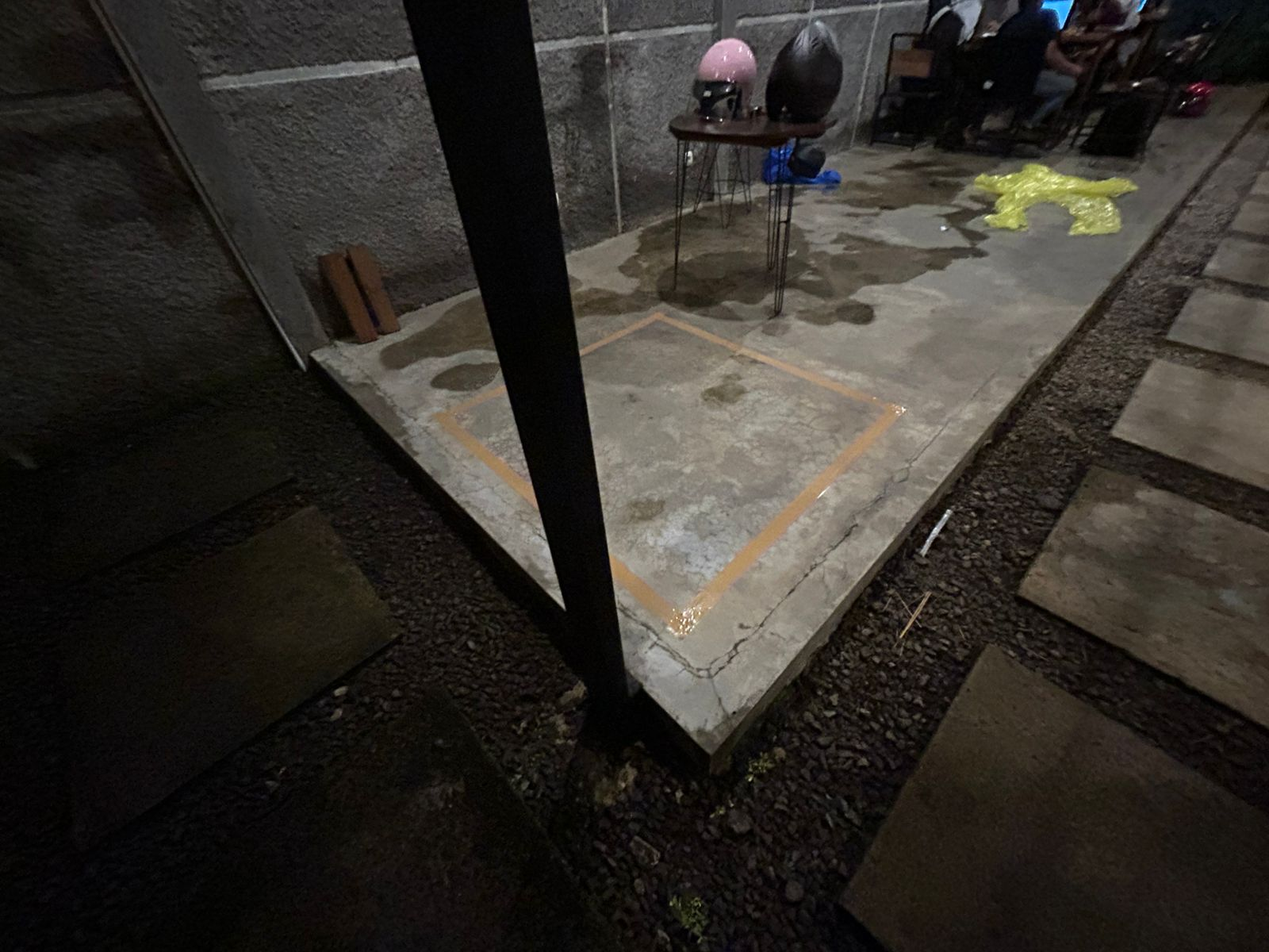floor marking: (579, 313, 905, 638), (435, 386, 538, 508)
